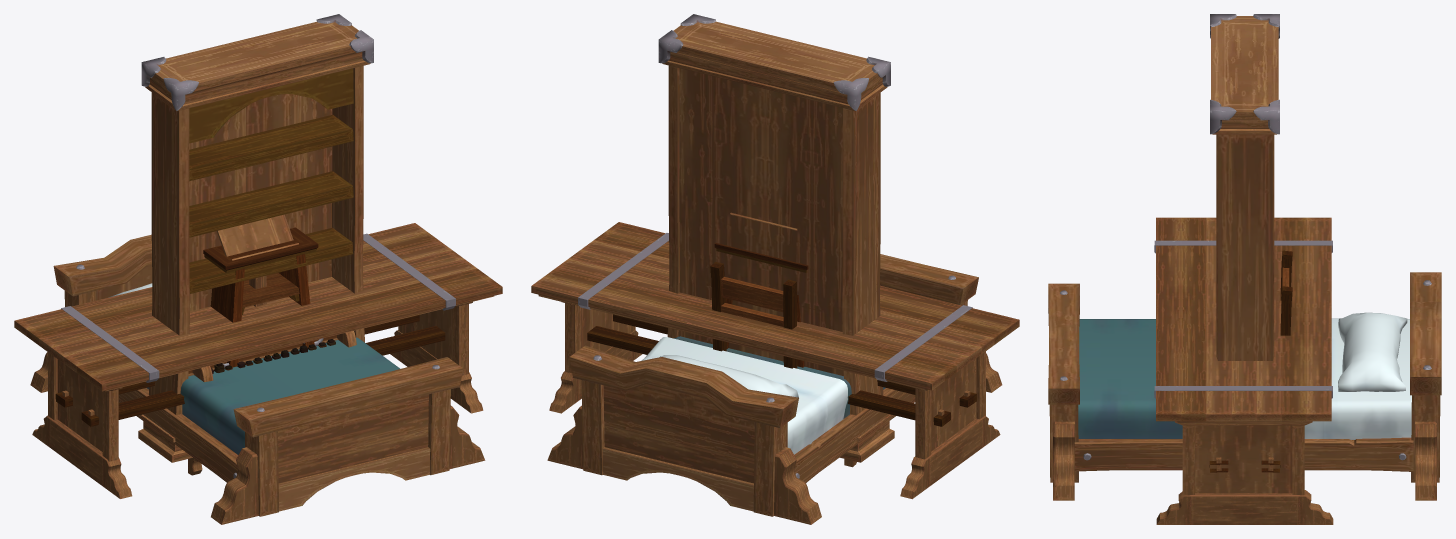
File: oficina.glb
The picture shows the model from 3 angles, left to right: view 1: azimuth 30°, elevation 25°; view 2: azimuth 150°, elevation 25°; view 3: azimuth 270°, elevation 25°; orthographic projection.
Visible parts, largest first — view 1: Bookcase_2, Table_Large, Bed_Twin1, Nightstand_Shelf, BookStand, Shelf_Small_Bottles; view 2: Bookcase_2, Bed_Twin1, Table_Large, Chair_1, Nightstand_Shelf; view 3: Table_Large, Bed_Twin1, Bookcase_2, Chair_1.
Boxes of the visible parts, x1,y1,x2,y2 form: Bookcase_2: [138, 14, 373, 462]; Table_Large: [14, 223, 502, 498]; Bed_Twin1: [30, 234, 485, 524]; Nightstand_Shelf: [203, 227, 318, 367]; BookStand: [216, 214, 298, 306]; Shelf_Small_Bottles: [192, 331, 356, 382]; Bookcase_2: [658, 14, 894, 462]; Bed_Twin1: [547, 254, 1002, 524]; Table_Large: [531, 222, 1019, 499]; Chair_1: [710, 262, 797, 368]; Nightstand_Shelf: [714, 243, 808, 367]; Table_Large: [1154, 217, 1333, 524]; Bed_Twin1: [1048, 272, 1441, 500]; Bookcase_2: [1210, 14, 1279, 360]; Chair_1: [1280, 250, 1292, 335].
Size of the model in its own units: 2.85 by 2.73 by 2.41.
Materials: 4 (4 with a texture image).
